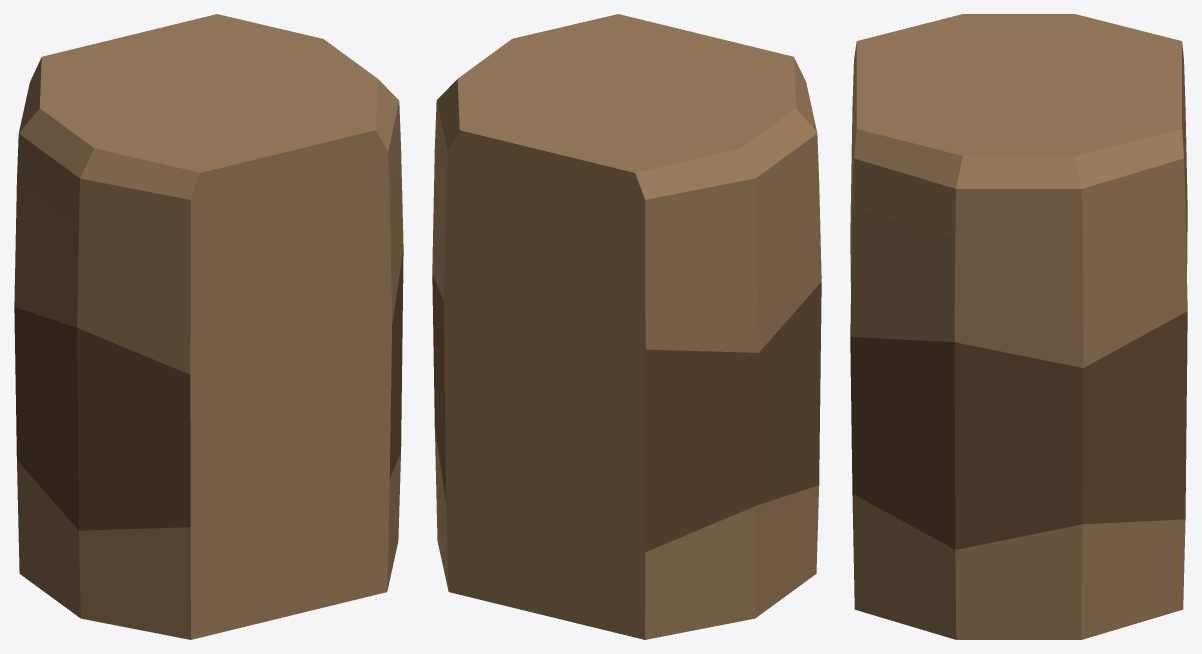
Rendered from dirt_asset.fbx.
3 renders of one model, left to right at view 1: azimuth 30°, elevation 25°; view 2: azimuth 150°, elevation 25°; view 3: azimuth 270°, elevation 25°, orthographic. The views are drawn at different scales.
Visible parts, largest first — view 1: Cylinder.004; view 2: Cylinder.004; view 3: Cylinder.004.
Part boxes in pixels (x1=…): Cylinder.004: x1=14, y1=14, x2=403, y2=639; Cylinder.004: x1=432, y1=14, x2=821, y2=639; Cylinder.004: x1=850, y1=14, x2=1187, y2=639.
Size of the model in its own units: 298 by 405 by 260.
